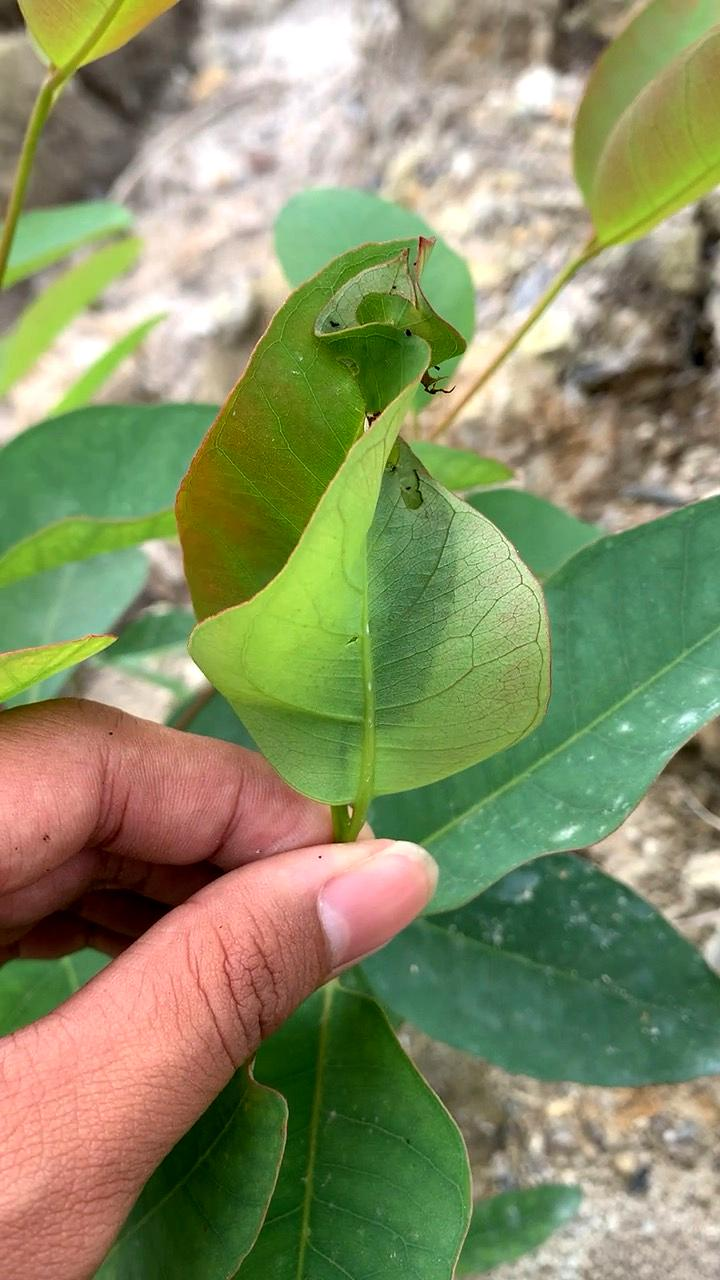Leaf Roller - Leaf: (151, 221, 576, 800)
